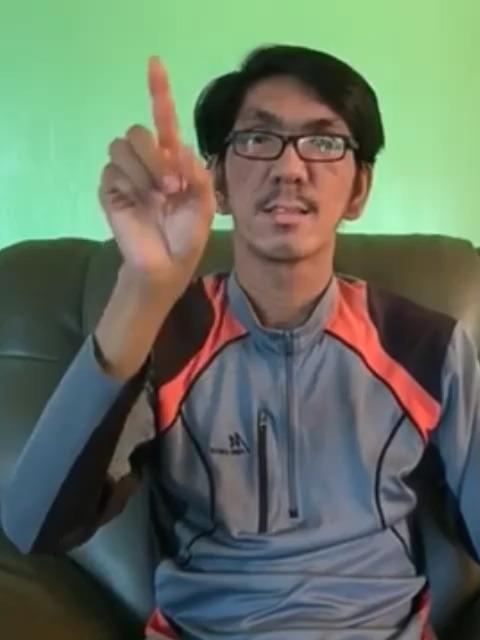Z: (92, 46, 222, 274)
